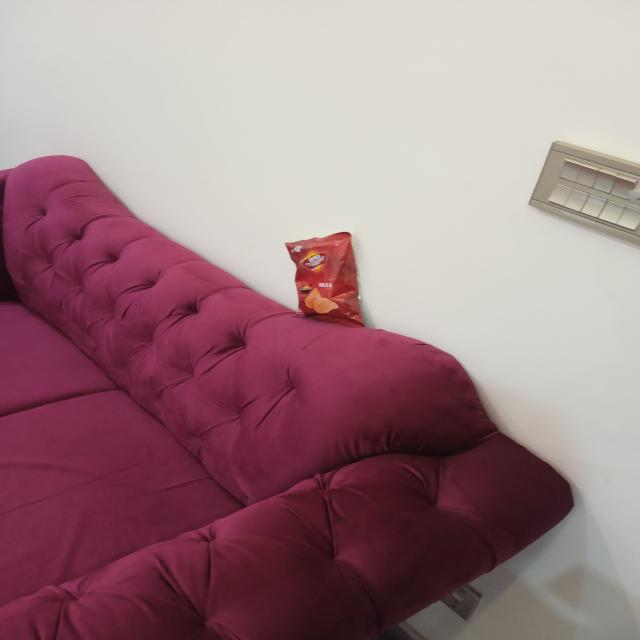Plastic: (293, 236, 359, 322)
